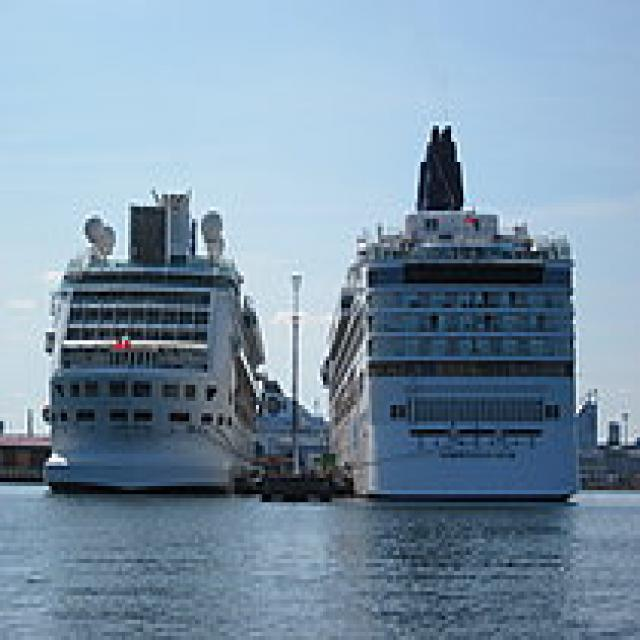Ship: (321, 107, 599, 516), (23, 171, 285, 507)
